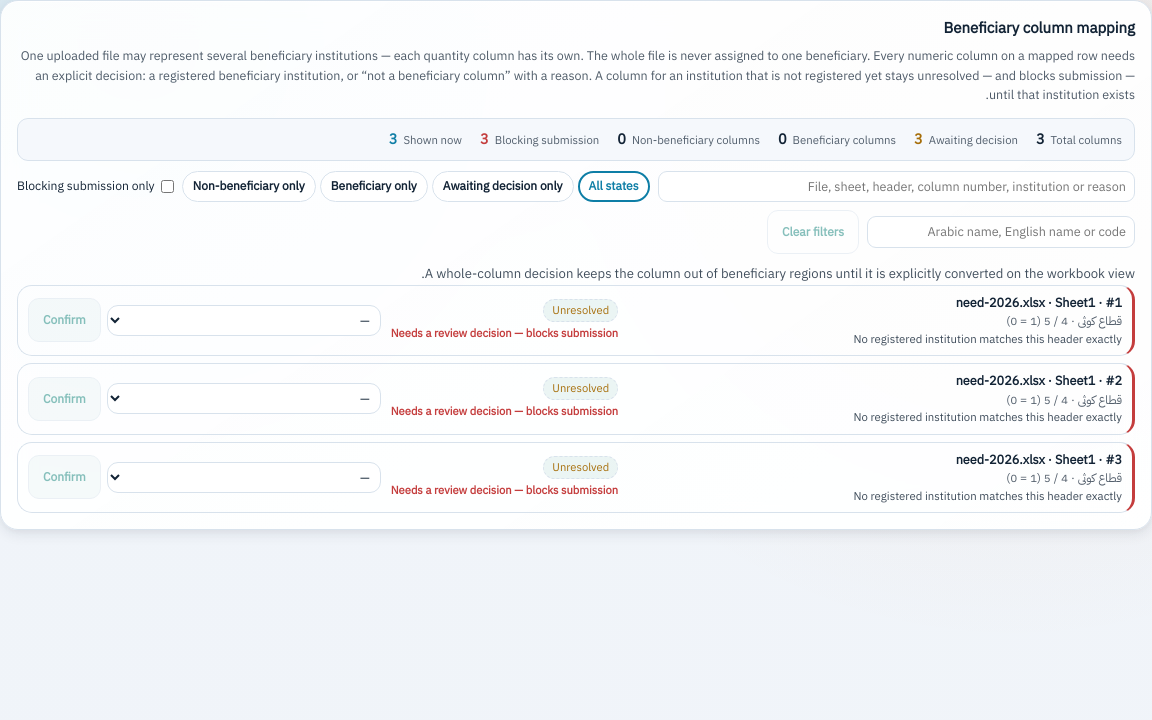
Scenario: CentralNeedsBeneficiaryColumnPanel — group apply covers UNRESOLVED columns only › offers "apply to N matching columns" only once a choice is pending, and states the exact affected count
Select "Hospital A" in the 1st dropdown named "Column review decision" at point(244, 320), box x1=107 y1=305 x2=381 y2=336
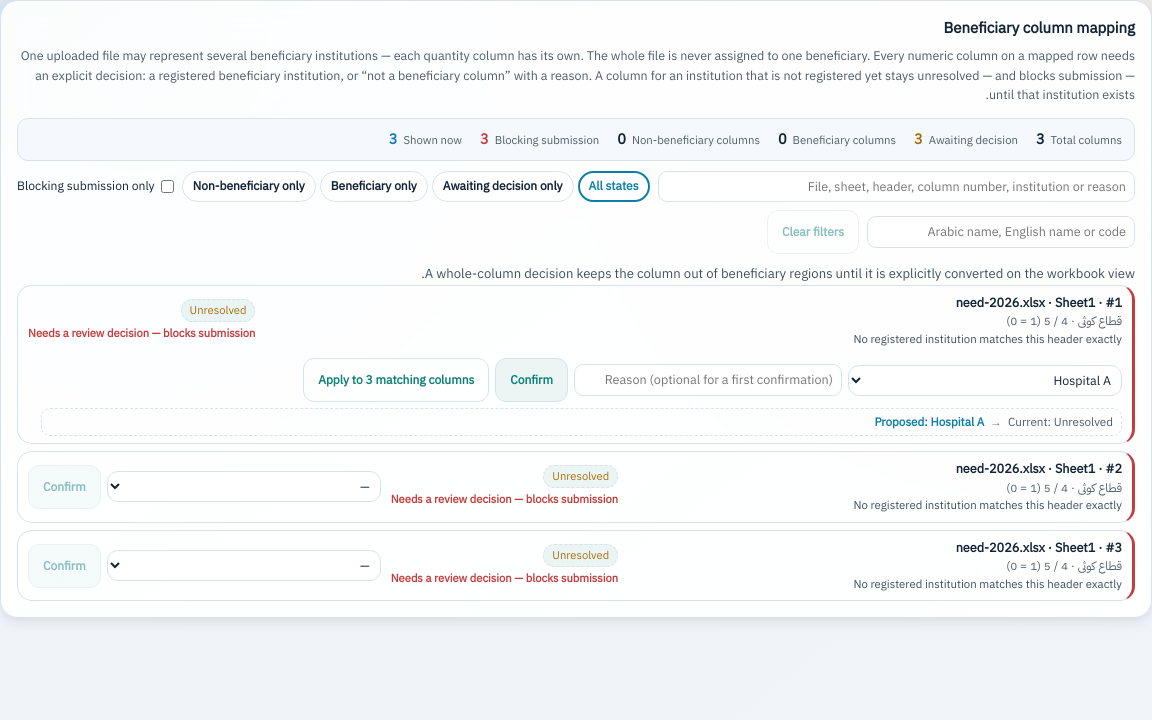
Expected: the button "Apply to 3 matching columns" is shown, x1=303 y1=358 x2=489 y2=402
